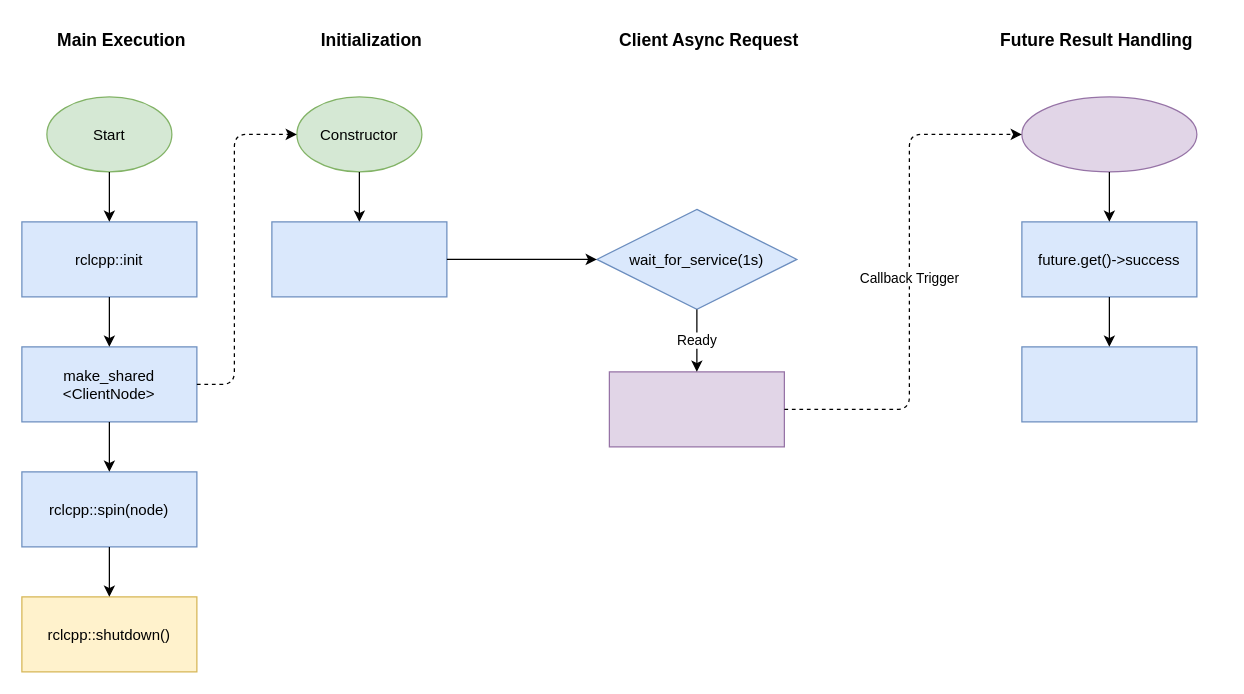
The diagram is 1244 pixels wide and 694 high, and some of its shapes have lost their labels. Each missing label, with the centre of its shape:
async_send_request (request, callback): point (696, 409)
create_client "greetings": point (359, 259)
Future Returns: point (1109, 134)
Log Result: point (1109, 384)
